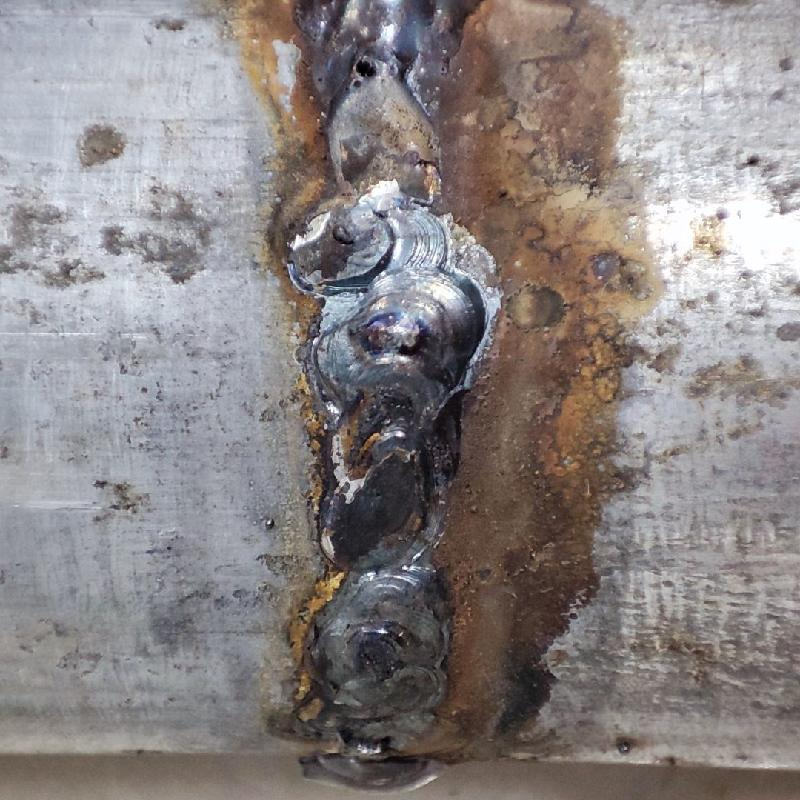Not_fully_soldered: (328, 52, 448, 200)
wrong_size: (300, 205, 483, 757)
